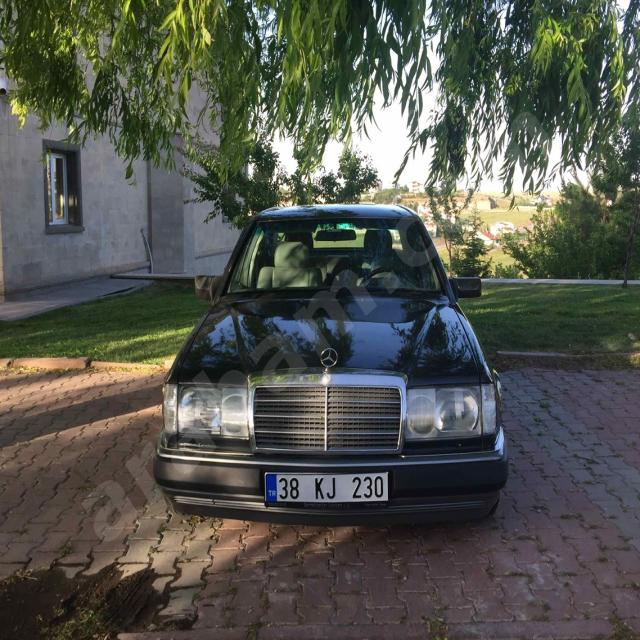license_plate: (265, 471, 390, 502)
